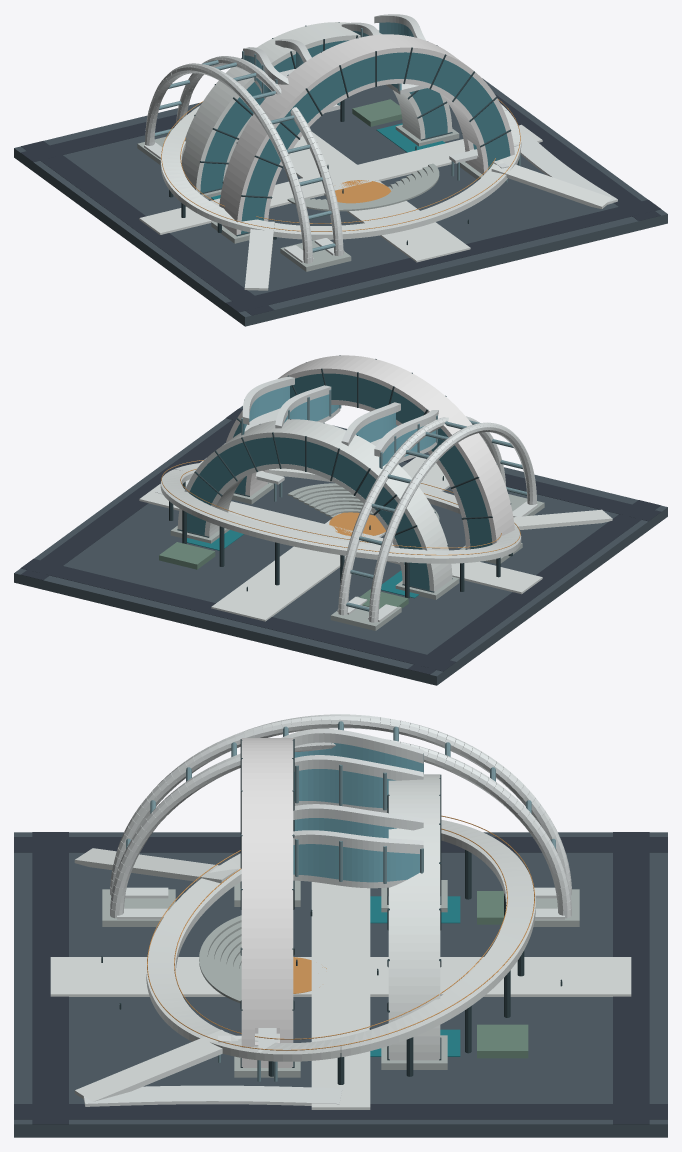
Rendered from a8_orbital_commons_transfer_study.glb.
The picture shows the model from 3 angles, top to bottom: view 1: azimuth 30°, elevation 25°; view 2: azimuth 150°, elevation 25°; view 3: azimuth 270°, elevation 25°; orthographic projection. The views are drawn at different scales.
Visible parts, largest first — view 1: District base, SOUTH continuous glazed occupied band, SOUTH outer load shell_A7_PORTAL, Continuous elliptical public promenade, E-W road, Public ground, continuous E-W axis, NORTH outer load shell, N-S road, Public ground, continuous N-S axis, NORTH continuous glazed occupied band, SOUTH inner load shell_A7_PORTAL, N-S road.001 (+13 smaller); view 2: District base, Continuous elliptical public promenade, SOUTH outer load shell_A7_PORTAL, NORTH continuous glazed occupied band.001, NORTH outer load shell, Public ground, continuous N-S axis, E-W road.001, SOUTH continuous glazed occupied band.001, N-S road, Public ground, continuous E-W axis, N-S road.001, E-W road (+14 smaller); view 3: District base, Continuous elliptical public promenade, SOUTH outer load shell_A7_PORTAL, Public ground, continuous N-S axis, Public ground, continuous E-W axis, NORTH outer load shell, E-W road.001, E-W road, N-S road.001, A7_APPROACH_CURVED_DECK, N-S road, A6_CURVED_SKY_EAST_RIGHTGLASS (+19 smaller).
Boxes of the visible parts, x1=… form: District base: x1=14, y1=45, x2=667, y2=326; SOUTH continuous glazed occupied band: x1=241, y1=52, x2=510, y2=233; SOUTH outer load shell_A7_PORTAL: x1=219, y1=34, x2=514, y2=235; Continuous elliptical public promenade: x1=160, y1=103, x2=521, y2=239; E-W road: x1=226, y1=199, x2=661, y2=312; Public ground, continuous E-W axis: x1=139, y1=124, x2=542, y2=234; NORTH outer load shell: x1=181, y1=22, x2=452, y2=193; N-S road: x1=21, y1=141, x2=273, y2=315; Public ground, continuous N-S axis: x1=289, y1=132, x2=470, y2=262; NORTH continuous glazed occupied band: x1=200, y1=40, x2=447, y2=193; SOUTH inner load shell_A7_PORTAL: x1=264, y1=79, x2=488, y2=221; N-S road.001: x1=495, y1=94, x2=660, y2=220; District base: x1=14, y1=406, x2=667, y2=685; Continuous elliptical public promenade: x1=160, y1=462, x2=521, y2=563; SOUTH outer load shell_A7_PORTAL: x1=226, y1=355, x2=514, y2=544; NORTH continuous glazed occupied band.001: x1=187, y1=437, x2=429, y2=590; NORTH outer load shell: x1=177, y1=419, x2=452, y2=591; Public ground, continuous N-S axis: x1=211, y1=456, x2=450, y2=621; E-W road.001: x1=20, y1=558, x2=455, y2=671; SOUTH continuous glazed occupied band.001: x1=233, y1=373, x2=492, y2=549; N-S road: x1=408, y1=500, x2=660, y2=674; Public ground, continuous E-W axis: x1=139, y1=484, x2=542, y2=594; N-S road.001: x1=21, y1=420, x2=235, y2=580; E-W road: x1=226, y1=408, x2=661, y2=521; District base: x1=14, y1=832, x2=667, y2=1137; Continuous elliptical public promenade: x1=146, y1=819, x2=535, y2=1061; SOUTH outer load shell_A7_PORTAL: x1=241, y1=738, x2=293, y2=1067; Public ground, continuous N-S axis: x1=50, y1=957, x2=631, y2=996; Public ground, continuous E-W axis: x1=311, y1=882, x2=370, y2=1109; NORTH outer load shell: x1=388, y1=774, x2=440, y2=1060; E-W road.001: x1=613, y1=832, x2=649, y2=1124; E-W road: x1=32, y1=832, x2=68, y2=1124; N-S road.001: x1=14, y1=1104, x2=667, y2=1119; A7_APPROACH_CURVED_DECK: x1=83, y1=1085, x2=342, y2=1106; N-S road: x1=14, y1=837, x2=667, y2=852; A6_CURVED_SKY_EAST_RIGHTGLASS: x1=293, y1=844, x2=419, y2=882.
Size of the model in its own units: 188 by 70 by 178.
